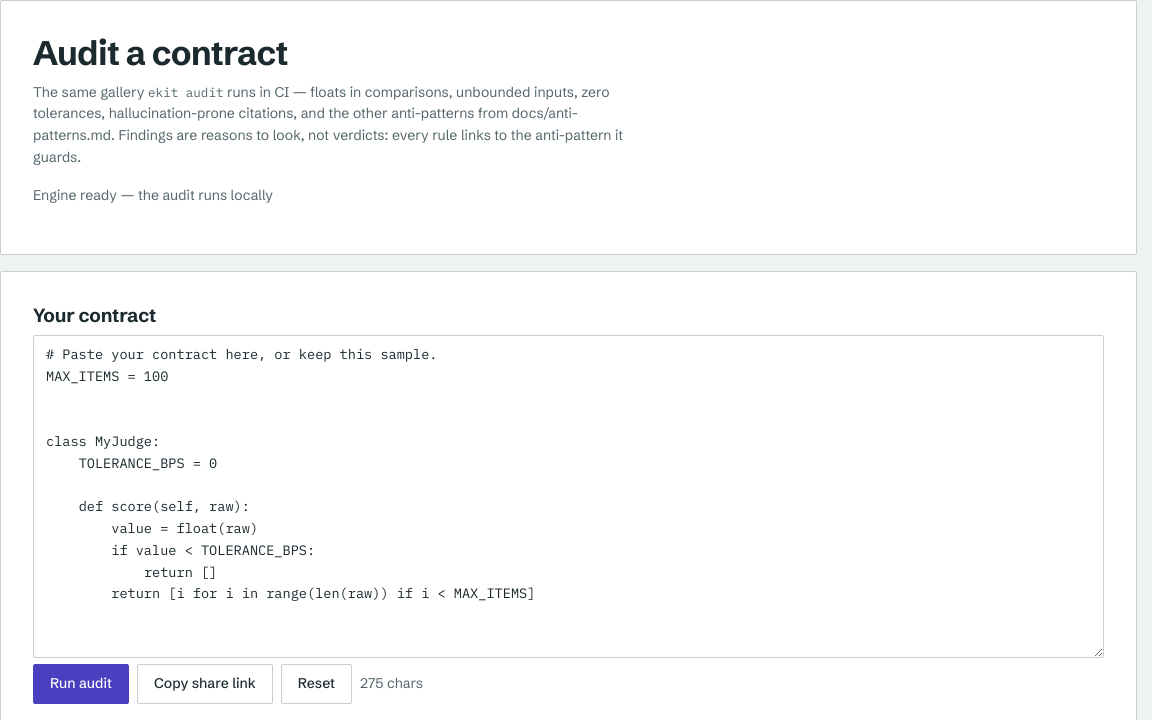
Test: Audit screen › renders findings with rule ids and line numbers
The image size is (1152, 720).
Click the button "Run audit" at [81, 684], box [33,664,129,704]
(page scrolled)
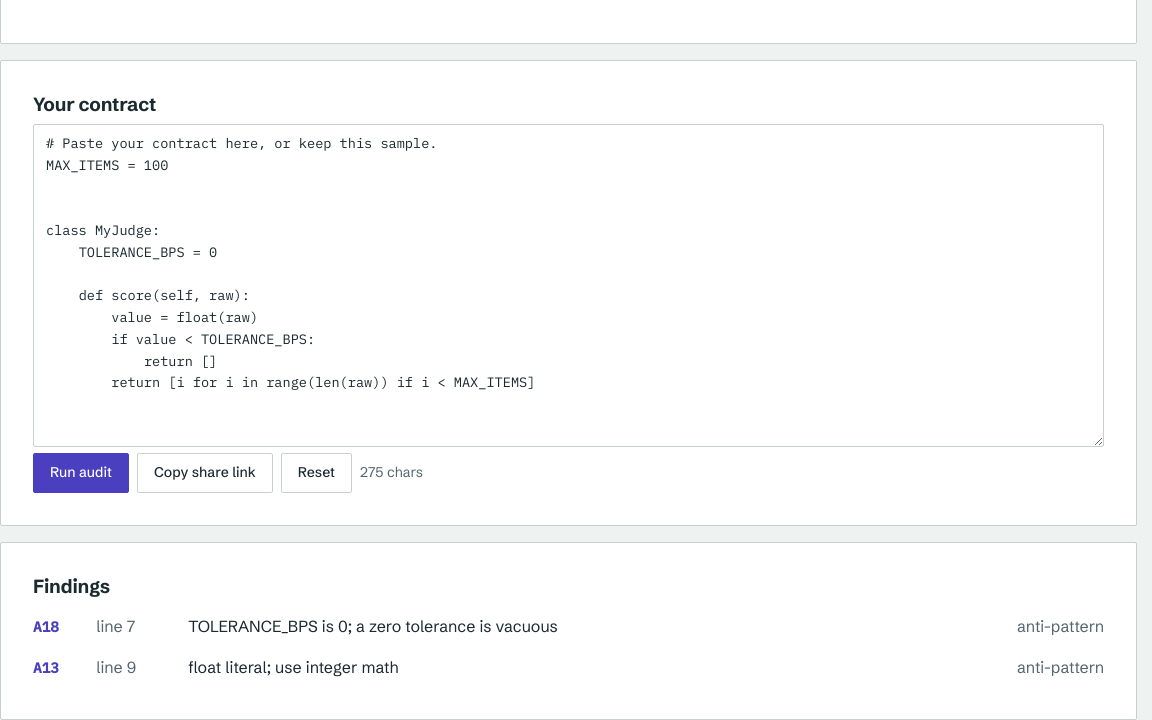
Expected: the text "TOLERANCE_BPS is 0; a zero tolerance is vacuous" is shown, [188,616,558,636]
Expected: the text "line 9" is shown, [96,657,136,677]
